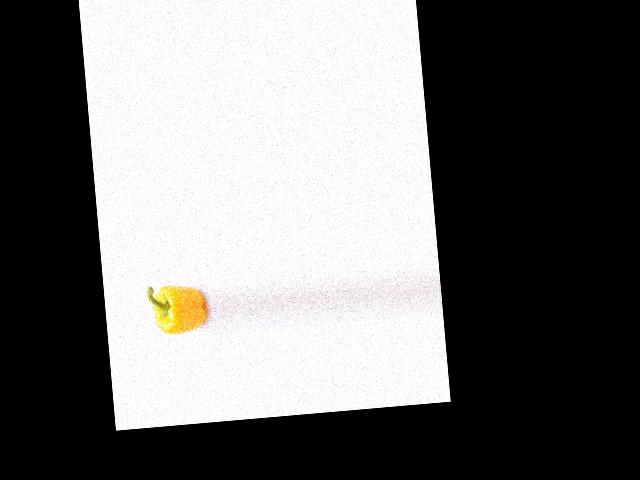bell_pepper: (148, 279, 209, 341)
